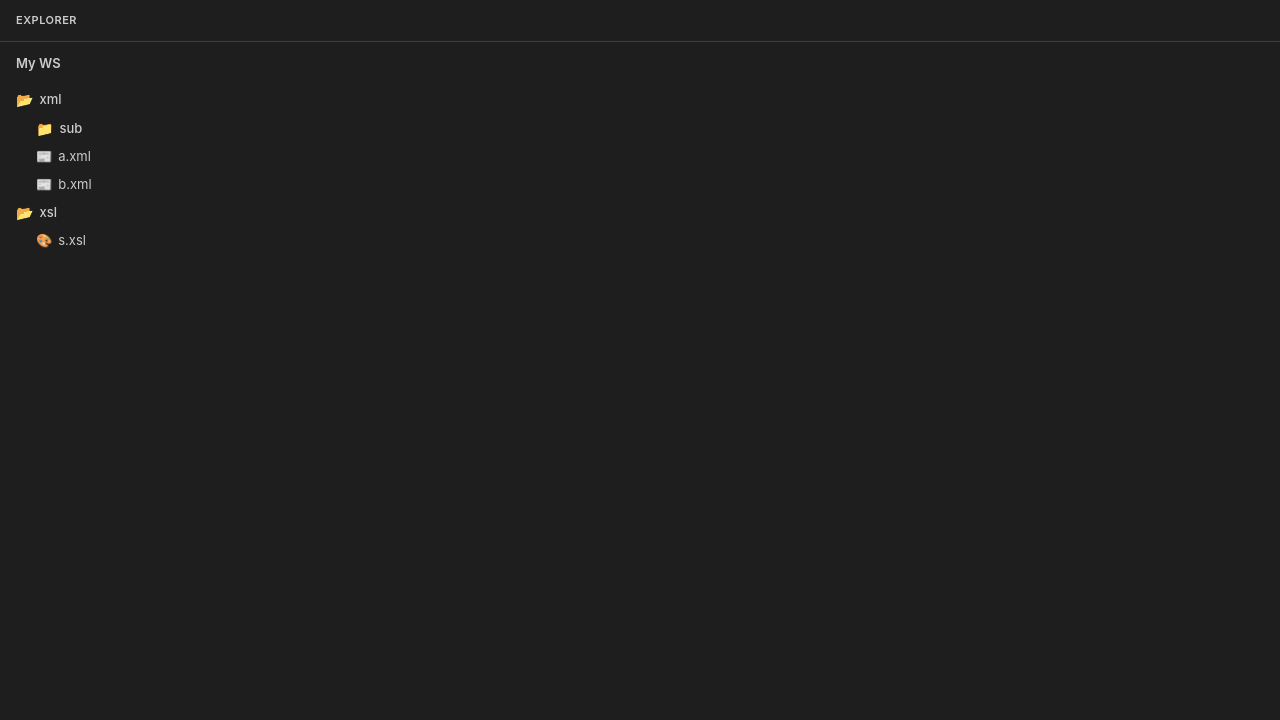
Test: FileExplorer › delete › deletes via the Delete key on the selected file
Click the text "b.xml" at coordinates (64, 184), box [36,176,92,192]
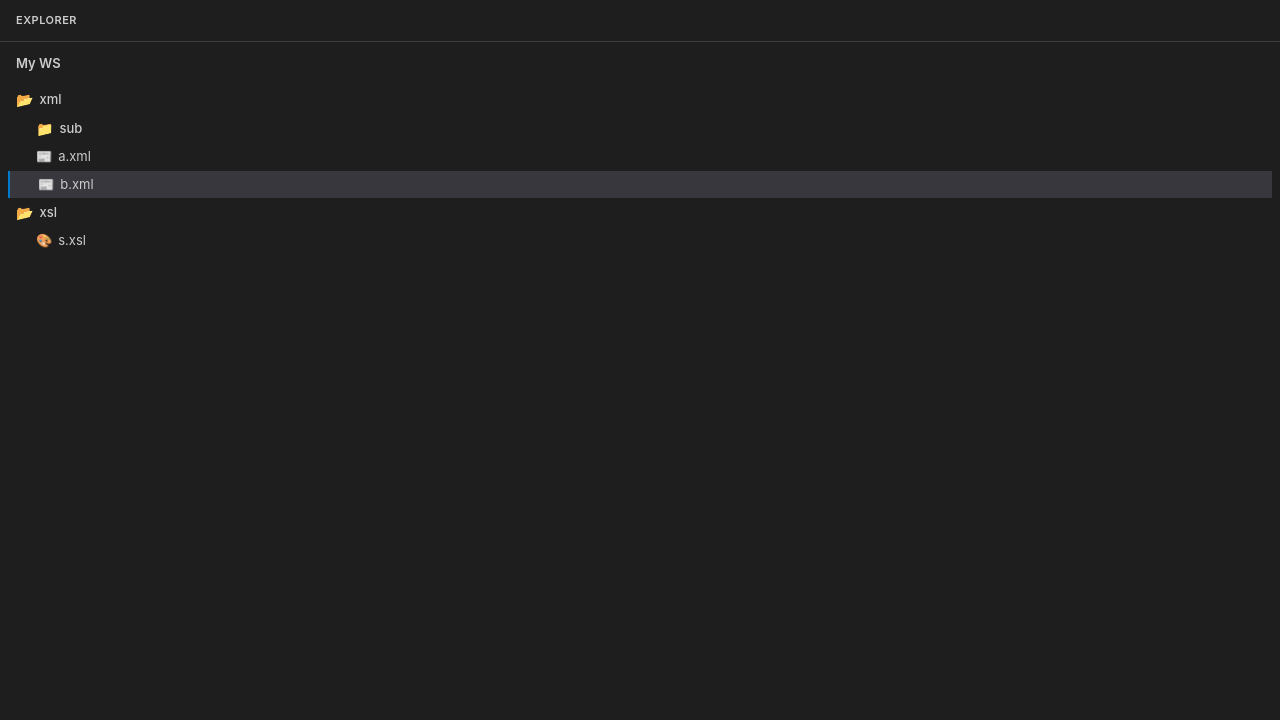
Press Delete
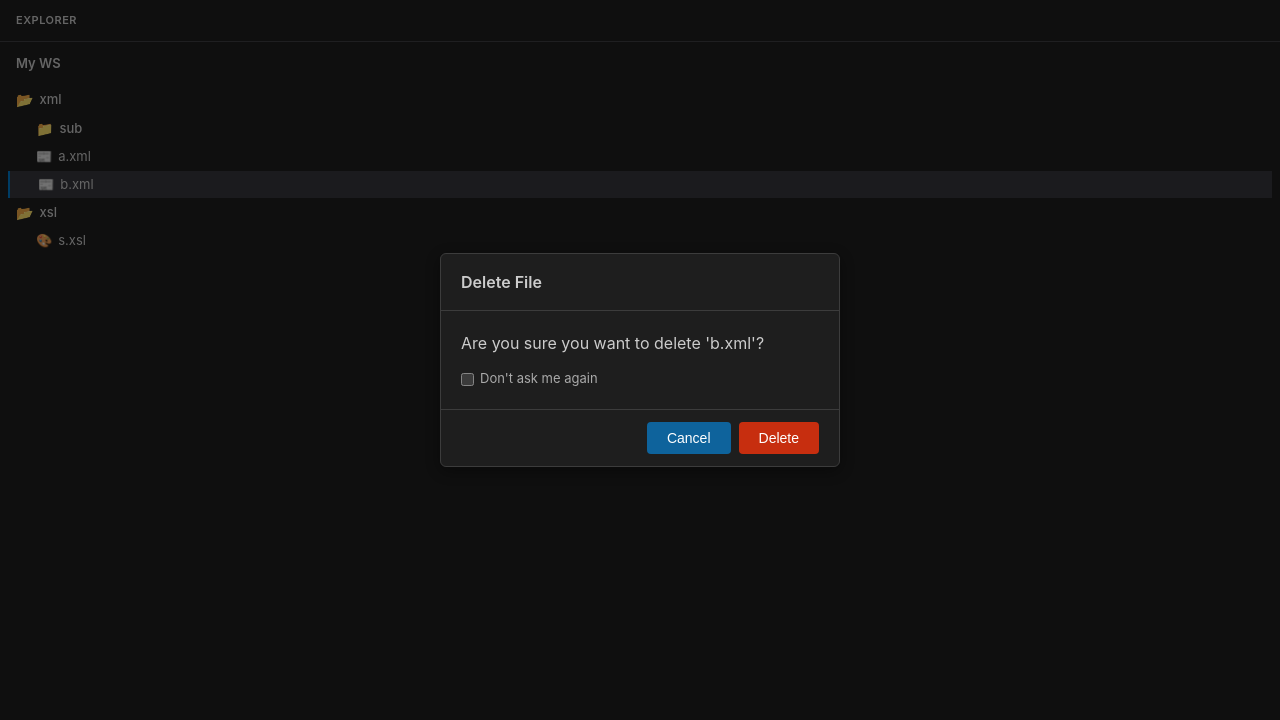
Result: the text "Are you sure you want to delete 'b.xml'?" is shown at [461,333,764,353]
